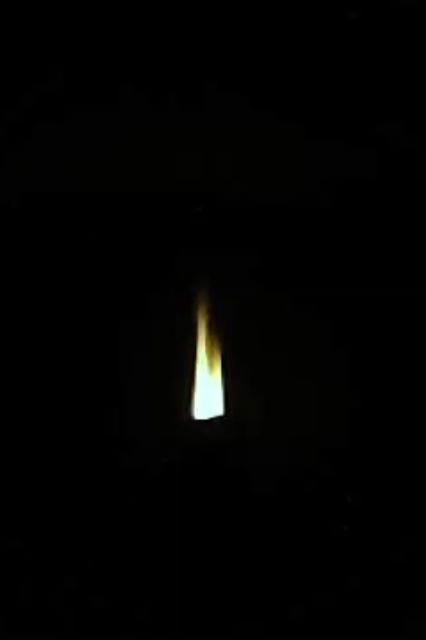burner flame: (188, 296, 228, 422)
